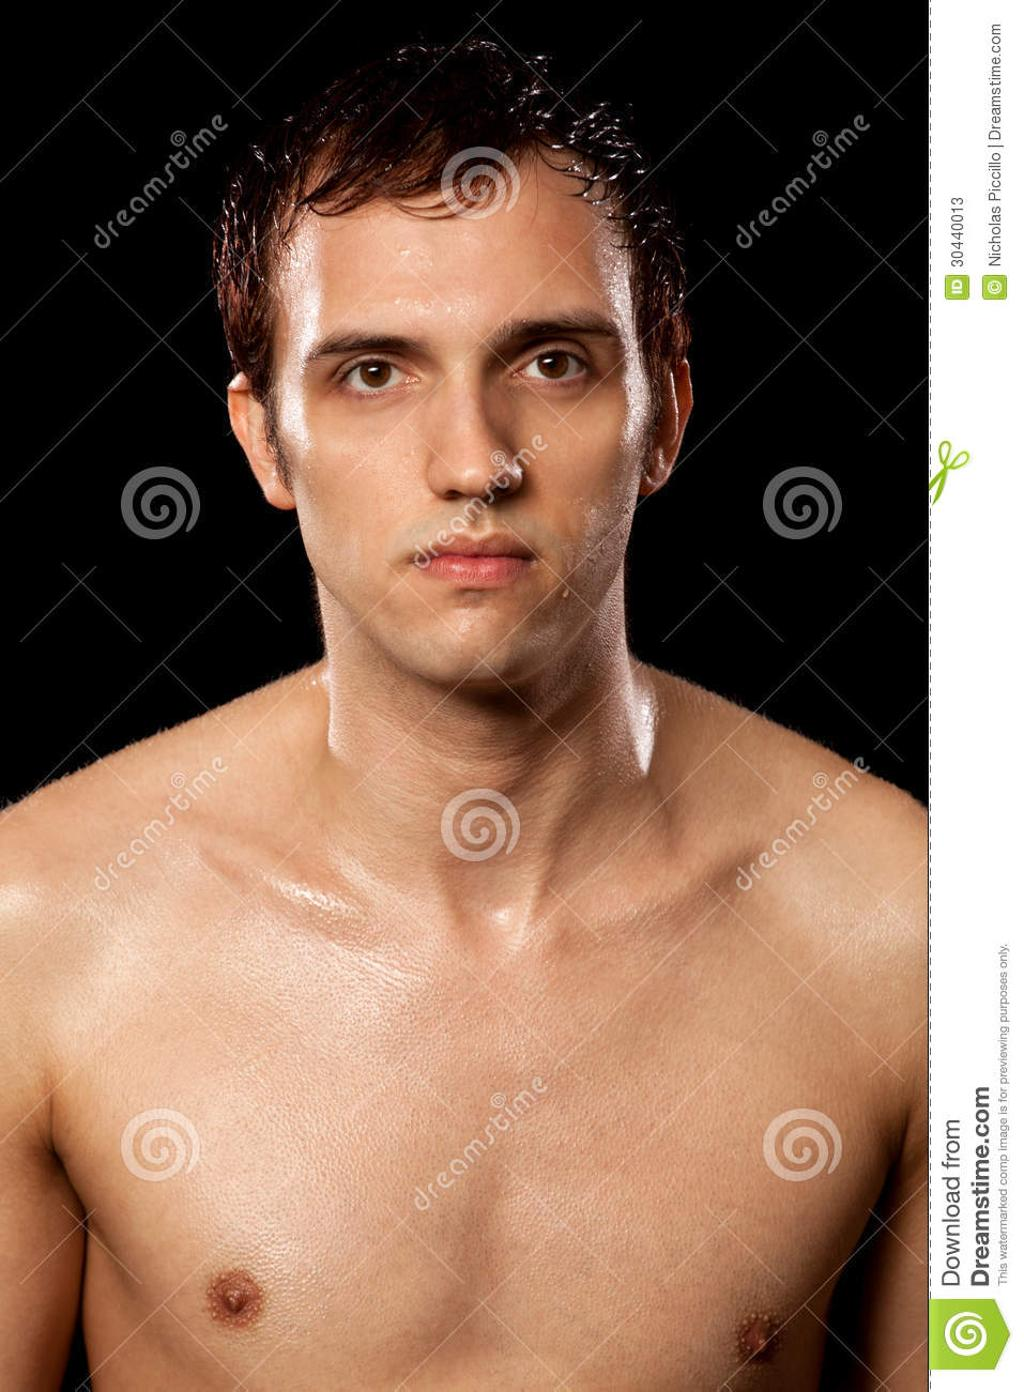face: (291, 209, 641, 679)
